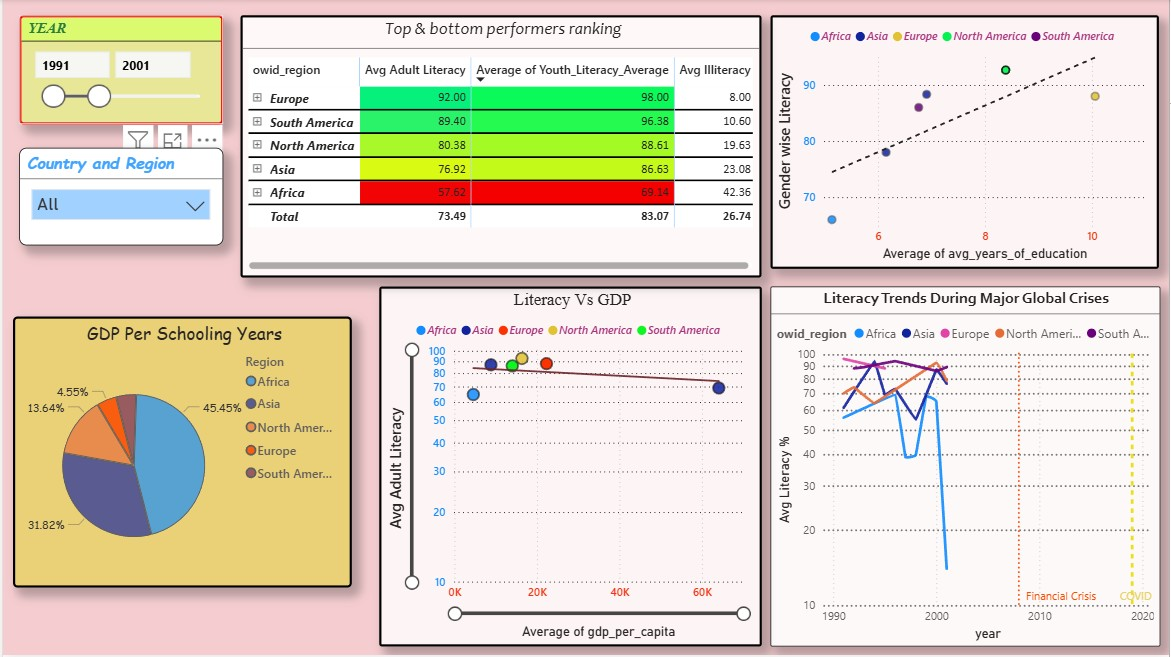

This screenshot's page, from the dashboard's own definition file:
{"tool":"powerbi","page":{"name":"Page 3","canvas":[1280,720],"ordinal":2},"visuals":[{"type":"slicer","title":"YEAR","fields":{"Values":["year querry.year"]},"box":[17.5,17.5,223.8,120],"z":0},{"type":"slicer","title":"   Country and Region","fields":{"Values":["Dim_country.owid_region","Dim_country.country"]},"box":[17.5,163.8,223.8,107.5],"z":1000},{"type":"scatterChart","title":"Literacy Vs GDP","fields":{"Category":["year querry.year"],"Series":["Dim_country.owid_region"],"X":["Avg(df_gdp_schooling.gdp_per_capita)"],"Y":["df_literacy.Avg Adult Literacy"]},"box":[413,315.6,419.9,395.2],"z":2000},{"type":"pivotTable","title":"Top & bottom performers ranking","fields":{"Rows":["Dim_country.owid_region","Dim_country.country"],"Values":["df_literacy.Avg Adult Literacy","Avg(df_literacy.Youth_Literacy_Average)","df_illiteracy.Avg Illiteracy"]},"box":[260.7,17.8,572.2,288.2],"z":3000},{"type":"scatterChart","fields":{"X":["df_gdp_schooling.avg_years_of_education"],"Y":["df_gdp_schooling.literacy_rate"],"Category":["year querry.year"],"Series":["Dim_country.owid_region"]},"box":[842.5,17.8,426.8,278.6],"z":4000},{"type":"lineChart","title":"Literacy Trends During Major Global Crises","fields":{"Category":["year querry.year"],"Y":["df_literacy.Avg Adult Literacy"],"Series":["Dim_country.owid_region"]},"box":[842.5,315.6,428.1,395.2],"z":5000},{"type":"pieChart","title":"GDP Per Schooling Years ","fields":{"Category":["Dim_country.owid_region"],"Y":["CountNonNull(df_gdp_schooling.GDP_per_Schooling_Year)"]},"box":[11,348.5,371.9,297.8],"z":6000}]}

Visuals, with their boxes in screenshot pixels (x1, y1, x2, y2), scaled from the page's 1280x720 canvas onto the 1171x657 screenshot:
"YEAR" slicer: left=16, top=16, right=221, bottom=125
"   Country and Region" slicer: left=16, top=149, right=221, bottom=248
"Literacy Vs GDP" scatterChart: left=378, top=288, right=762, bottom=649
"Top & bottom performers ranking" pivotTable: left=238, top=16, right=762, bottom=279
scatterChart - df_gdp_schooling.avg_years_of_education x df_gdp_schooling.literacy_rate: left=771, top=16, right=1161, bottom=270
"Literacy Trends During Major Global Crises" lineChart: left=771, top=288, right=1162, bottom=649
"GDP Per Schooling Years " pieChart: left=10, top=318, right=350, bottom=590
